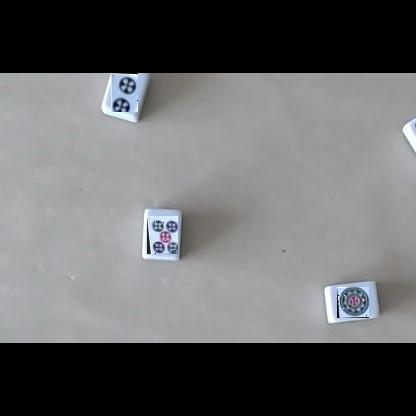1p: (337, 287, 369, 318)
2p: (111, 73, 138, 112)
5p: (147, 216, 178, 254)
